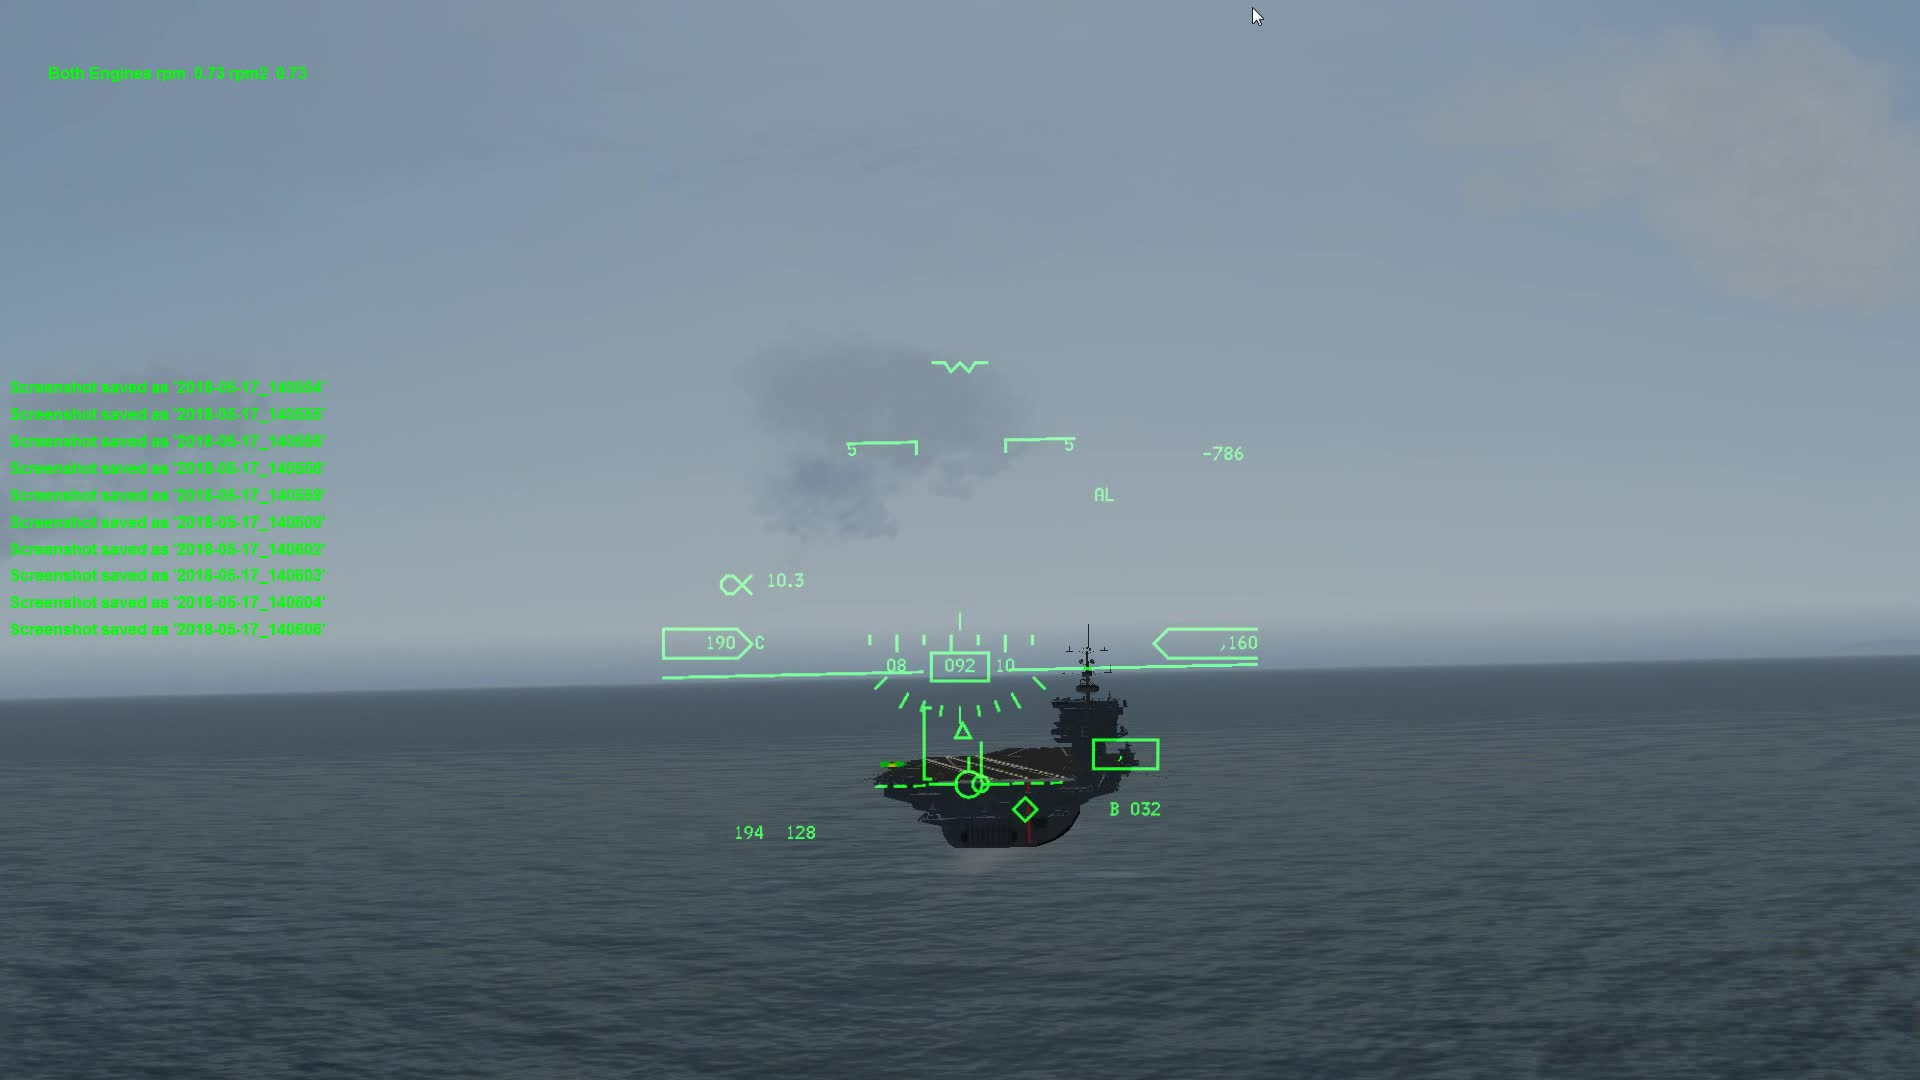speed vector: (930, 752, 1005, 800)
